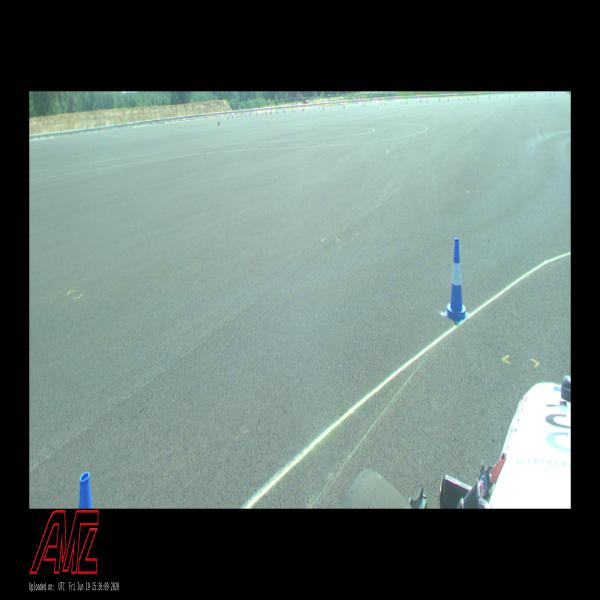blue_cone: (443, 237, 469, 321)
